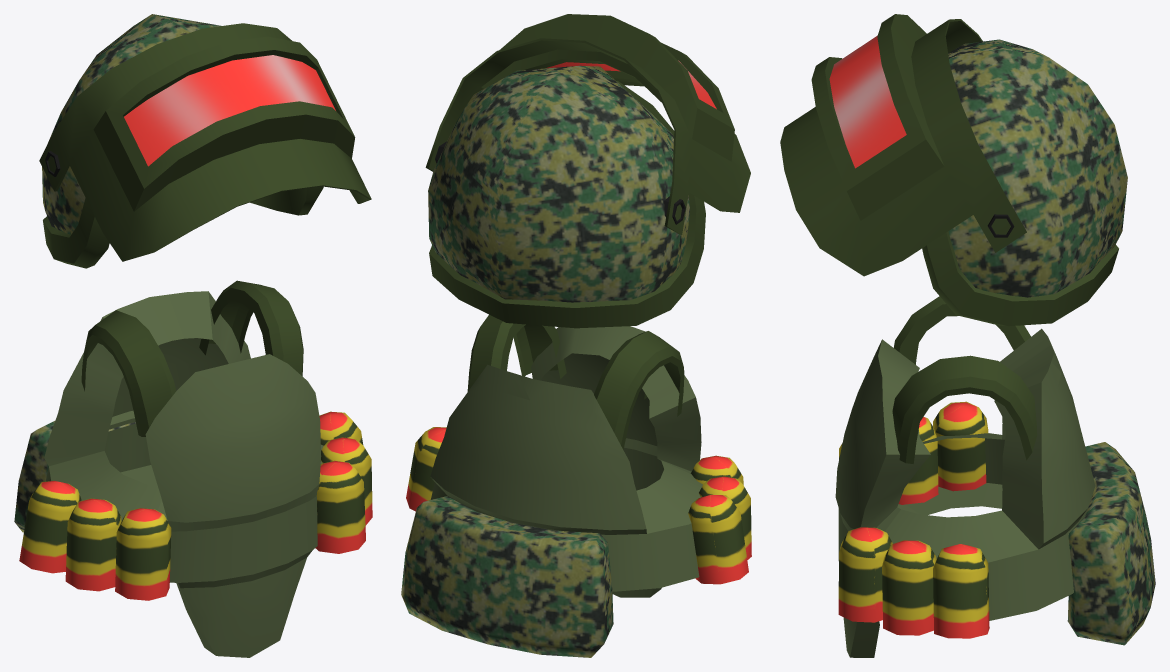
The model's file is enemy2.fbx.
3 views of the same model, side by side, from view 1: azimuth 30°, elevation 25°; view 2: azimuth 150°, elevation 25°; view 3: azimuth 270°, elevation 25° (orthographic). The views are drawn at different scales.
Visible parts, largest first — view 1: armor1, hat1; view 2: armor1, hat1; view 3: hat1, armor1.
Boxes of the visible parts, bbox=[...] form: armor1: bbox=[14, 280, 372, 657]; hat1: bbox=[39, 14, 371, 268]; armor1: bbox=[401, 314, 751, 657]; hat1: bbox=[425, 14, 750, 328]; hat1: bbox=[780, 14, 1127, 326]; armor1: bbox=[835, 296, 1155, 657].
Size of the model in its own units: 41.67 by 70.16 by 38.33.
